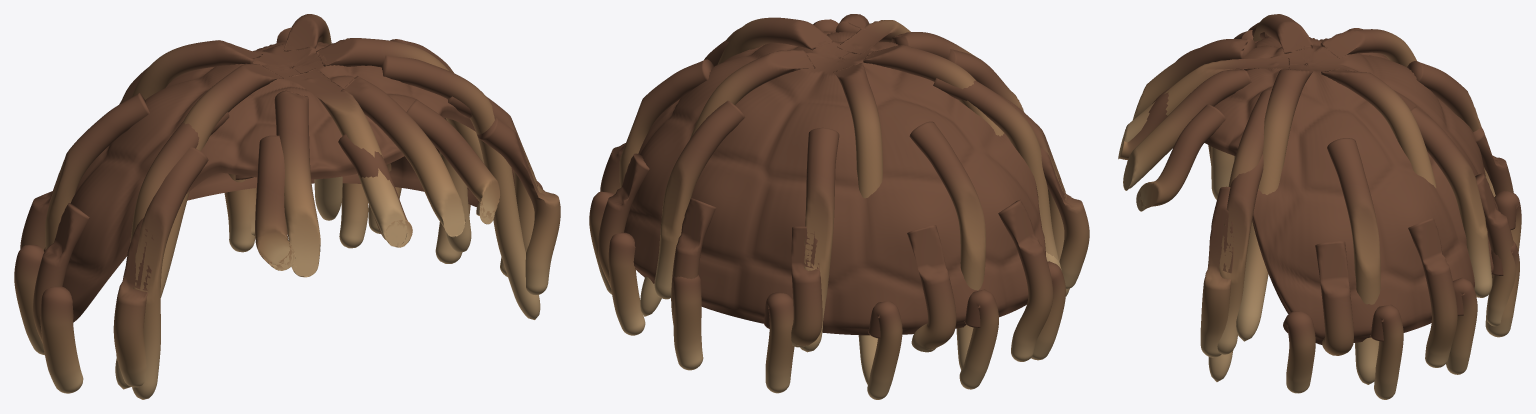
File: Ombre-3f358f84c80e253-hair.glb
3 views of the same model, side by side, from view 1: azimuth 30°, elevation 25°; view 2: azimuth 150°, elevation 25°; view 3: azimuth 270°, elevation 25° (orthographic). The views are drawn at different scales.
Visible parts, largest first — view 1: 226 hair / Hair252 / sectioned locs.001; view 2: 226 hair / Hair252 / sectioned locs.001; view 3: 226 hair / Hair252 / sectioned locs.001.
Part boxes in pixels (x1,y1,x2,y2): 226 hair / Hair252 / sectioned locs.001: (14,14,560,399); 226 hair / Hair252 / sectioned locs.001: (589,14,1089,399); 226 hair / Hair252 / sectioned locs.001: (1118,14,1521,399).
Bounding box in the file's own units: 1.1 × 0.6357 × 0.8755.
Materials: 1 (1 with a texture image).
